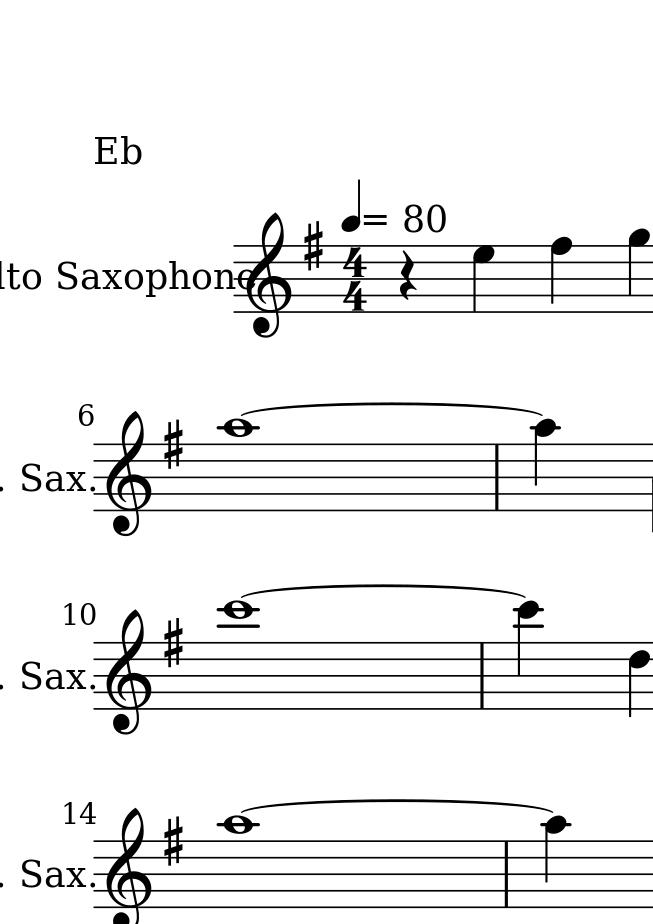0: (424, 199, 447, 236)
1_10: (218, 417, 257, 512), (219, 815, 257, 909)
1_12: (218, 600, 257, 714)
4: (341, 277, 373, 312), (342, 246, 370, 277)
4_10: (541, 814, 573, 911)
4_12: (514, 600, 543, 712), (530, 419, 560, 516)
4_6: (626, 638, 651, 724)
4_7: (471, 243, 495, 312)
4_8: (549, 236, 573, 315)
4_9: (626, 225, 651, 317)
8: (402, 200, 424, 235)
Gclef: (101, 608, 157, 741), (245, 211, 298, 337), (102, 809, 157, 924), (104, 409, 155, 531)
Rests4: (397, 249, 418, 304)
Sax: (15, 654, 87, 693), (52, 257, 125, 295), (17, 459, 86, 499), (20, 851, 82, 891)
Sharp: (161, 616, 189, 670), (161, 814, 187, 870), (161, 418, 187, 473), (301, 220, 325, 274)
Single_barline: (474, 642, 491, 707), (498, 842, 515, 906), (489, 444, 505, 508)
Slur: (235, 797, 554, 815), (238, 582, 531, 600), (239, 400, 545, 416)
Speed4: (341, 178, 389, 233)
Speed_4=80: (339, 177, 449, 235)
TimeSig: (343, 243, 371, 312)
